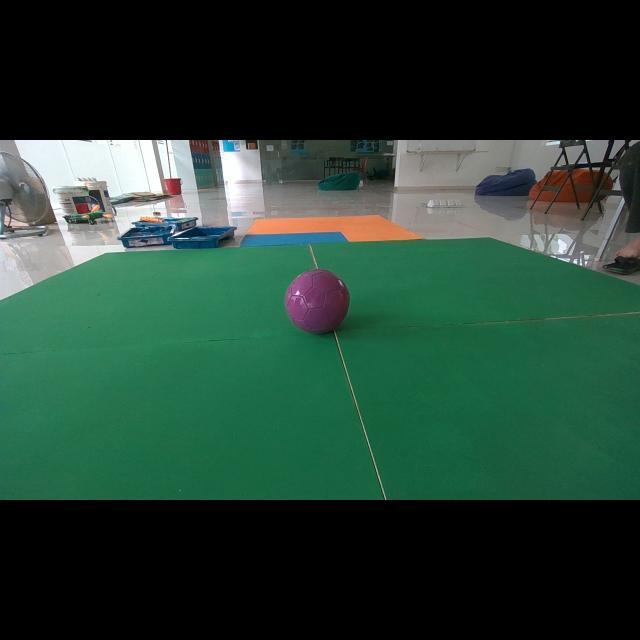P: (285, 269, 350, 334)
